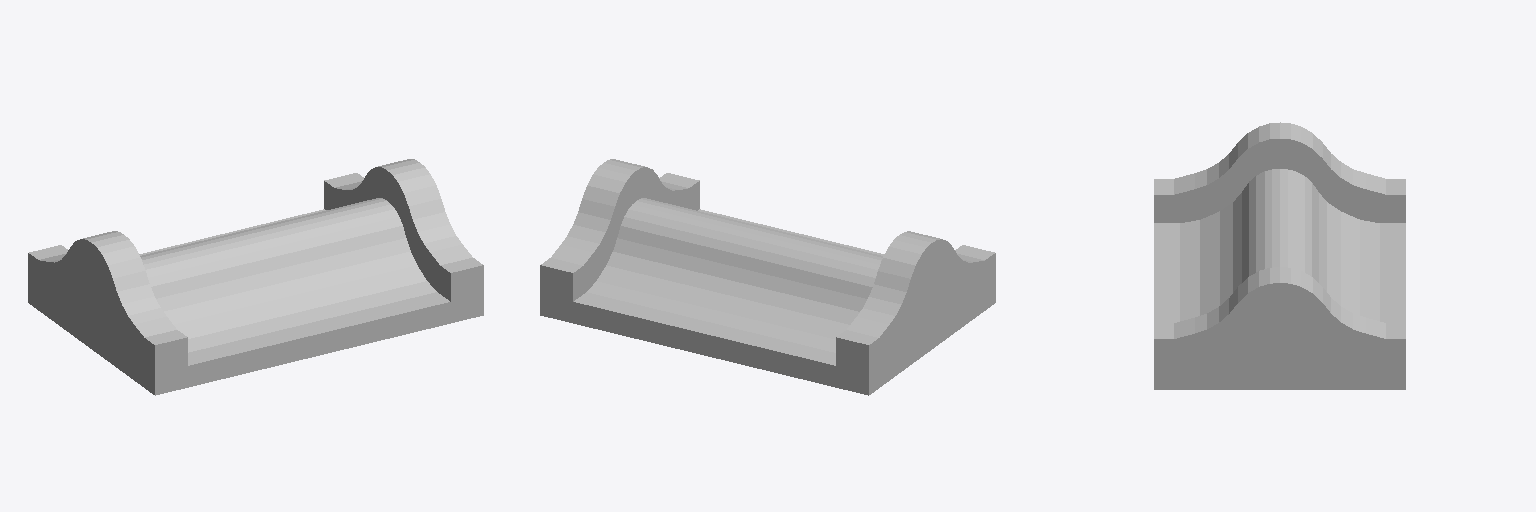
File: smallSlope_2x3.obj
The picture shows the model from 3 angles: view 1: azimuth 30°, elevation 25°; view 2: azimuth 150°, elevation 25°; view 3: azimuth 270°, elevation 25°; orthographic projection.
Parts seen in each view (by area): view 1: smallSlope4; view 2: smallSlope4; view 3: smallSlope4.
Part boxes in pixels (x1,y1,x2,y2): smallSlope4: (28,159,483,395); smallSlope4: (540,159,995,395); smallSlope4: (1154,122,1405,389).
Size of the model in its own units: 3 by 0.9307 by 2.